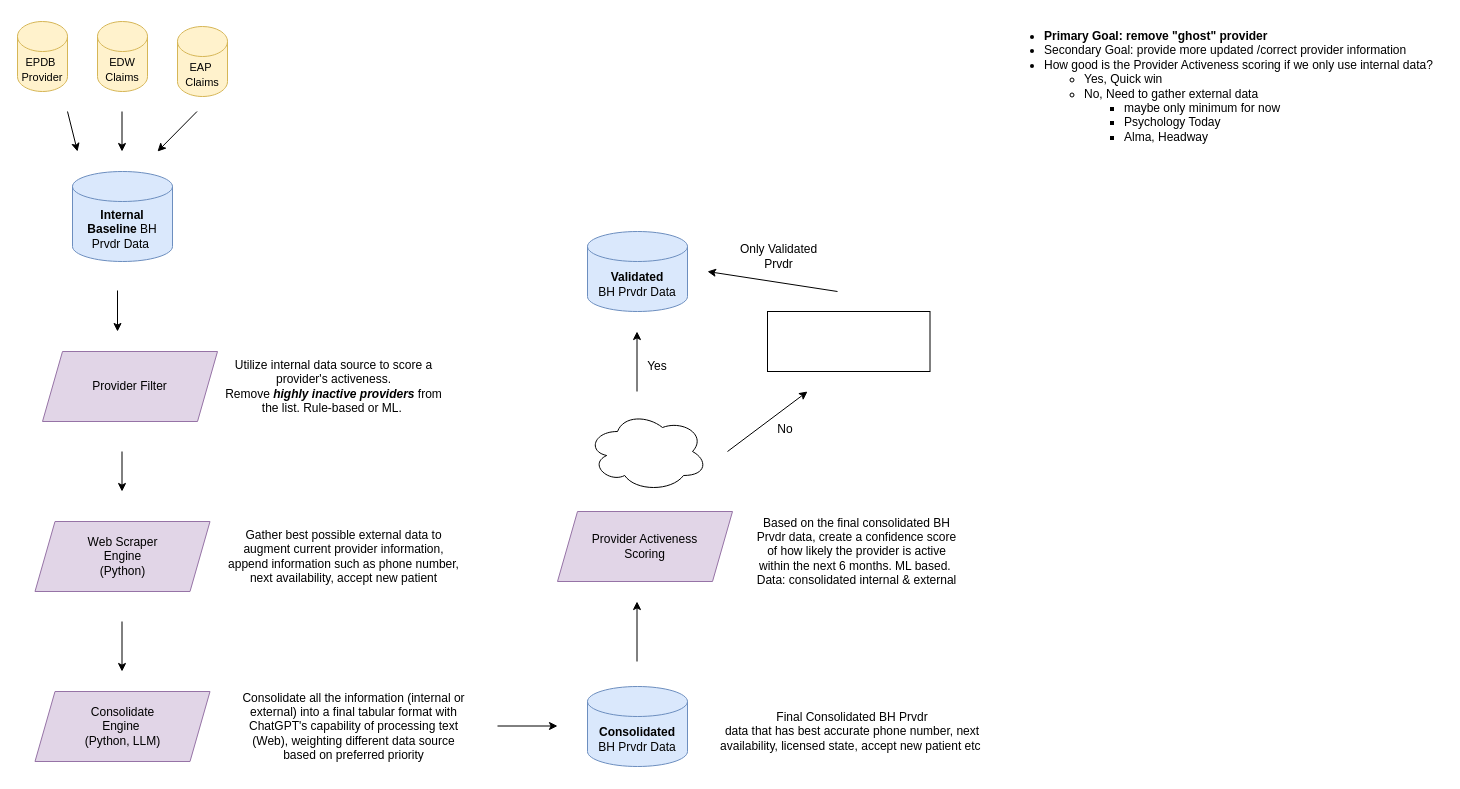
Image size: 1460x789. Some labels were removed from this diagram. The shapes that lost their labels are listed below. From the top down, each one's centre as x and y in pixels, then its label:
point (848, 341): Manual Validation for Medium-Low confidence Prvdr
point (647, 451): High Confidence Prvdr?
